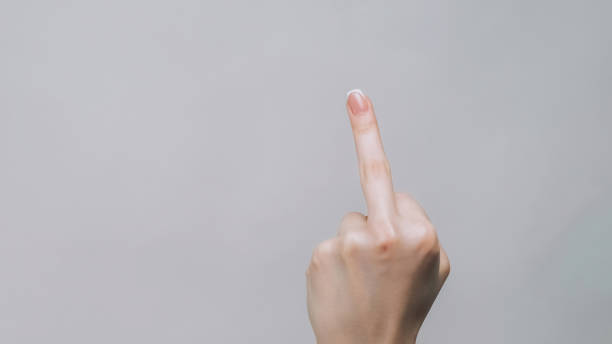insulting_gesture: (300, 85, 451, 344)
